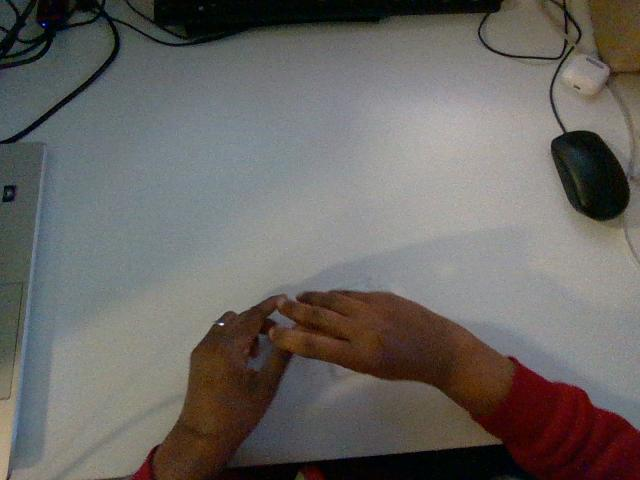gauze: (338, 277, 394, 292), (332, 364, 359, 377)
